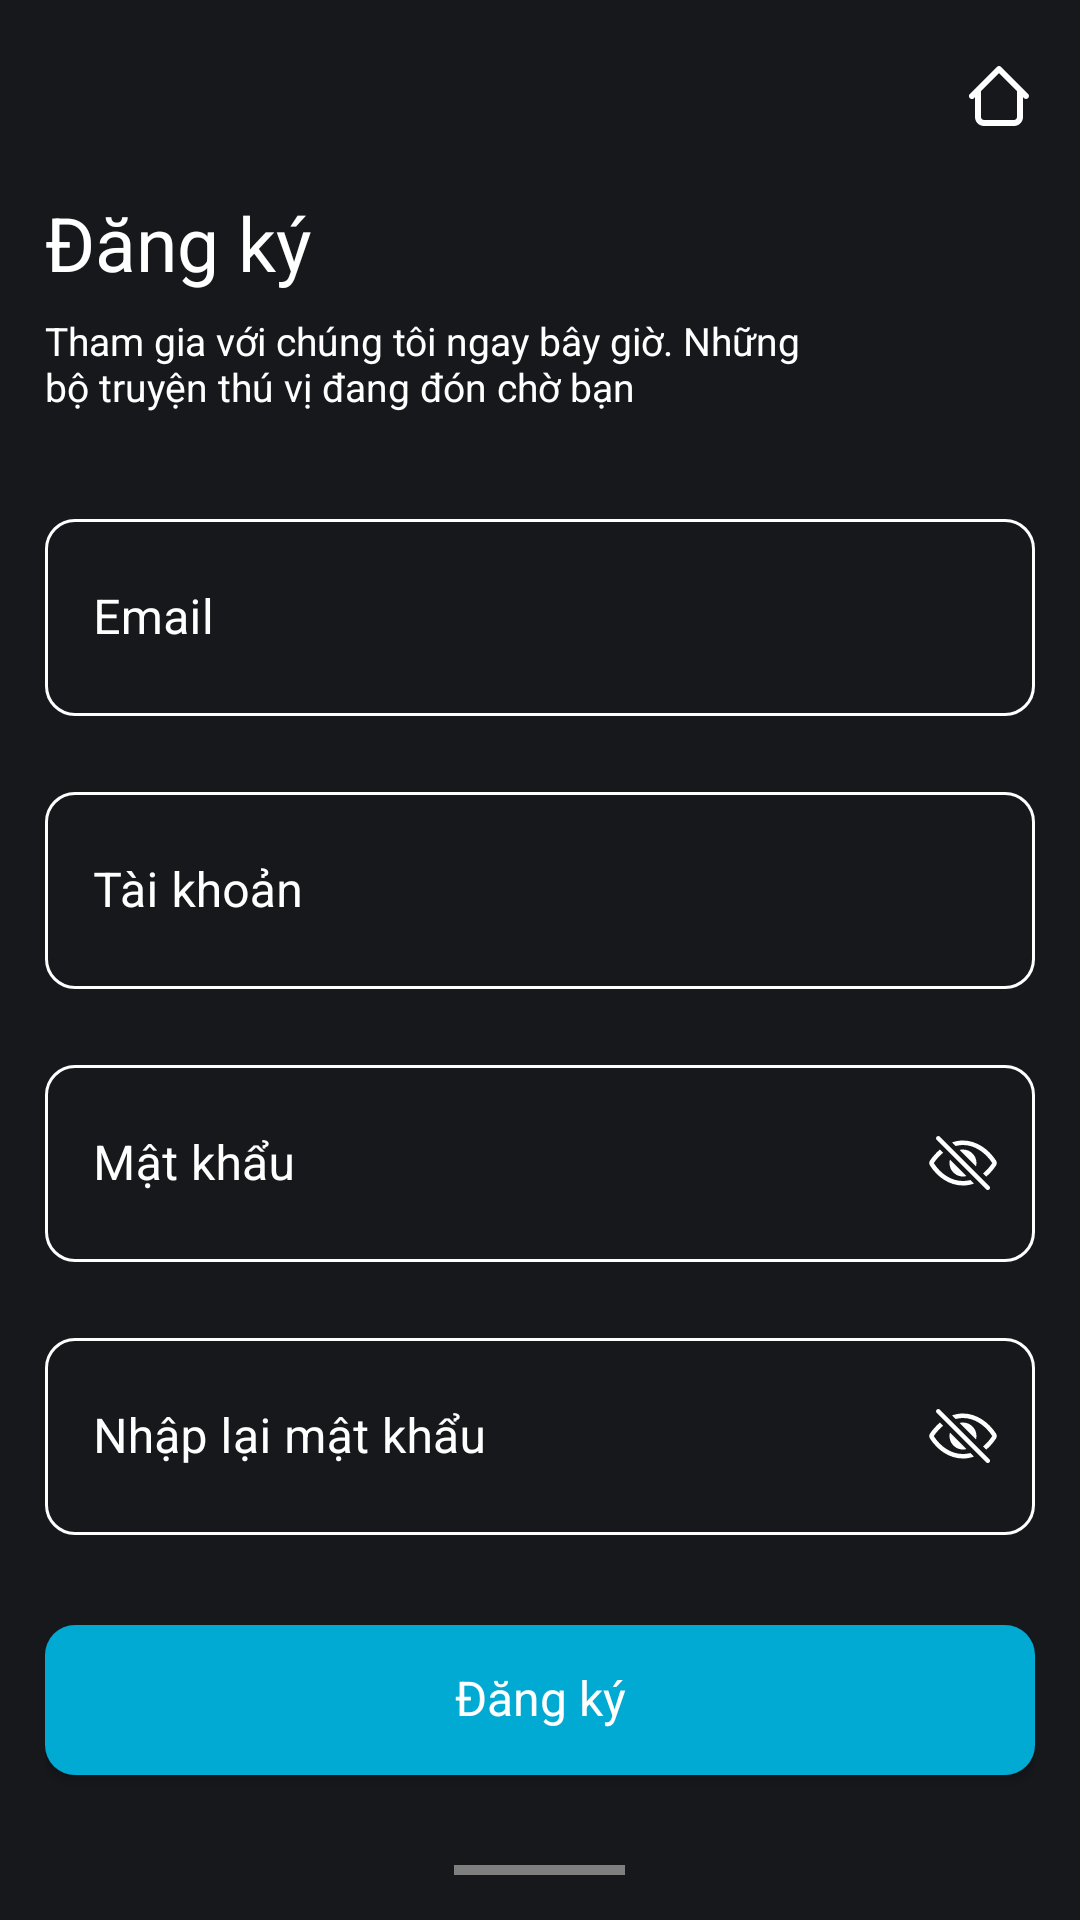

Icons on this 1080*1920 Android screen, each with its box as (left=x1, top=y1, right=x2, bottom=y2):
home: (left=969, top=66, right=1029, bottom=126)
